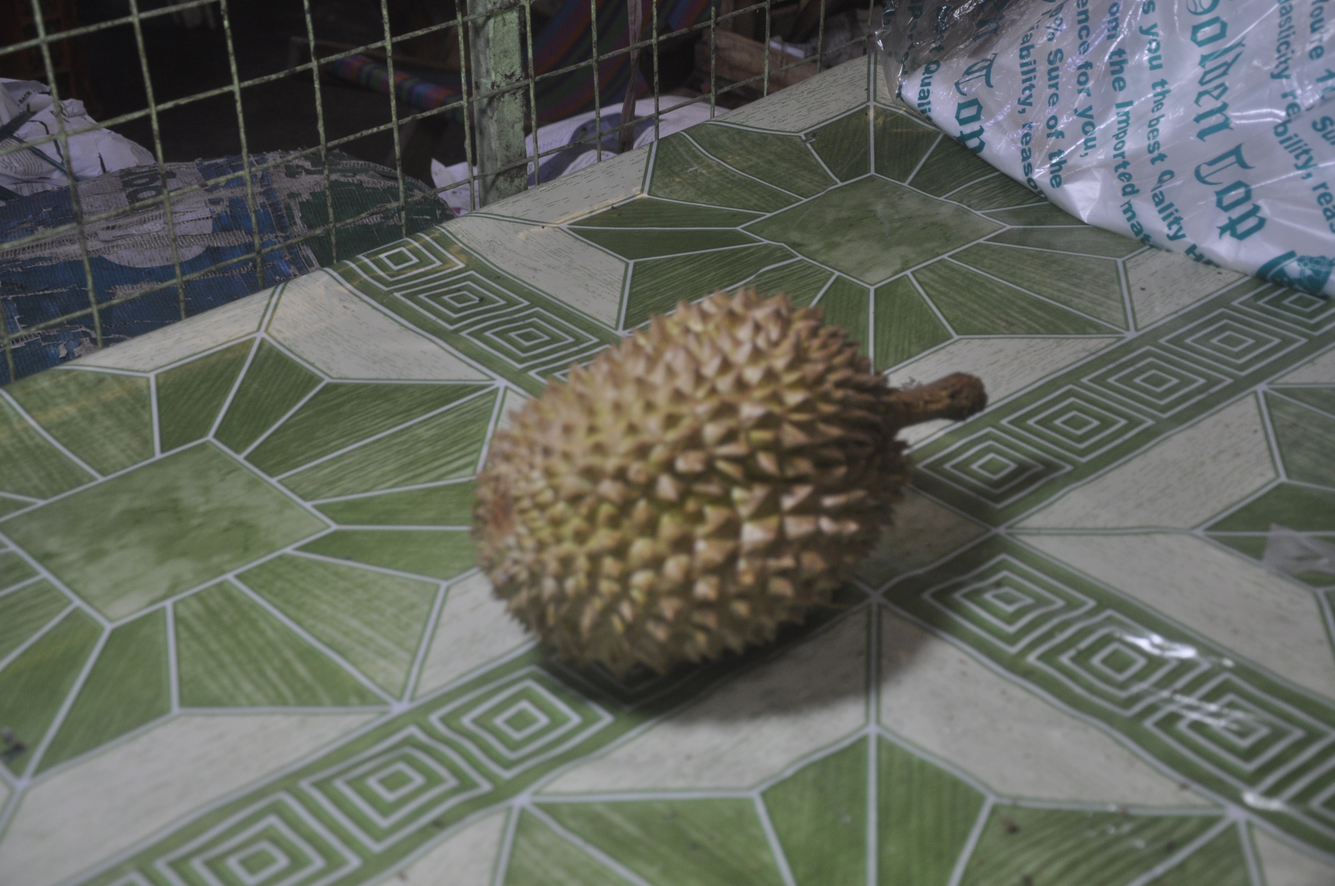mature: (474, 290, 985, 675)
